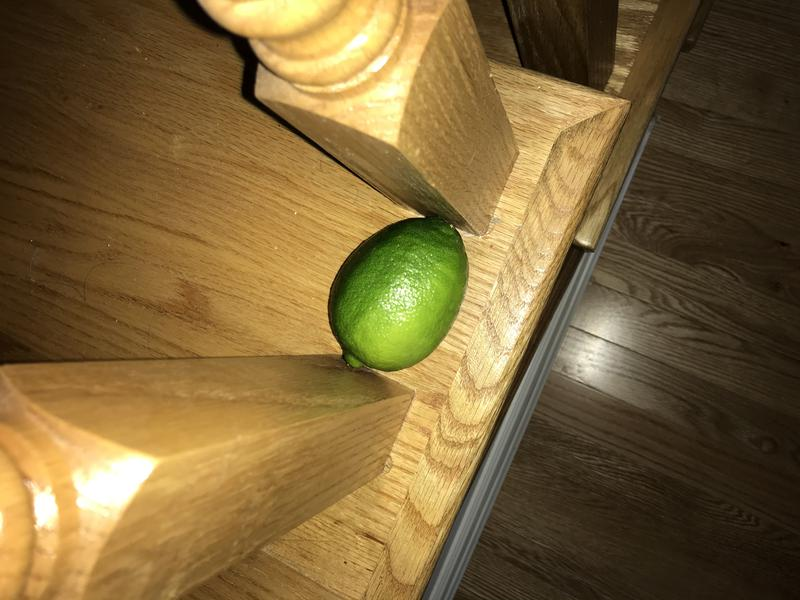lime: (318, 207, 481, 385)
